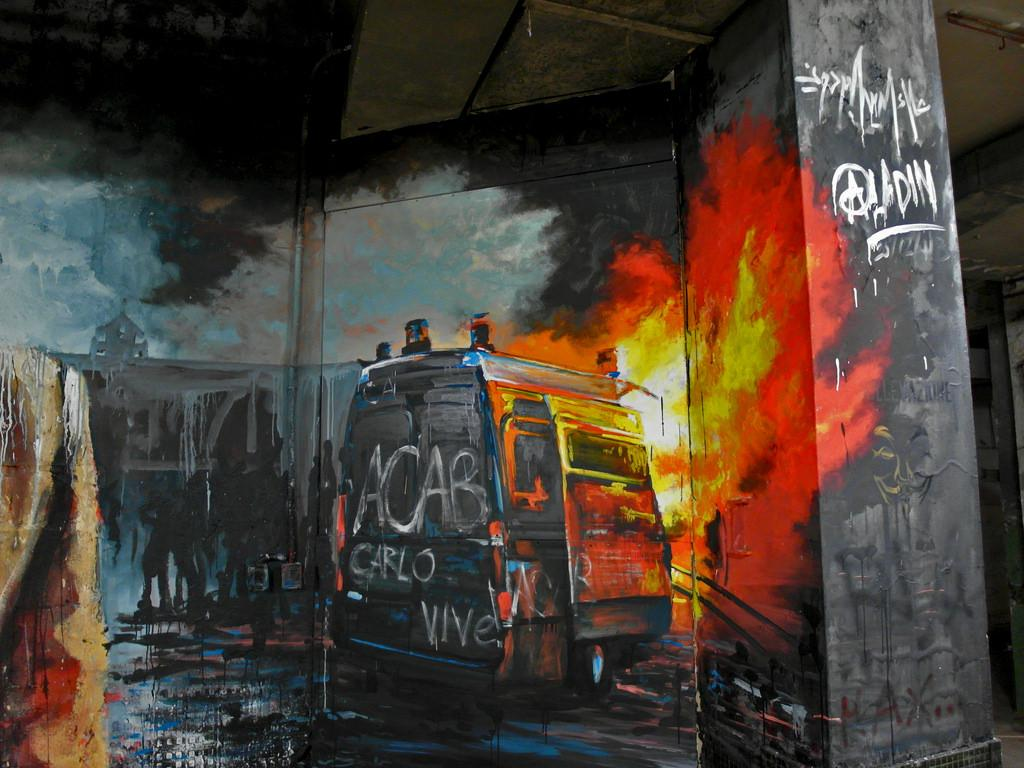fire: (624, 364, 694, 450)
